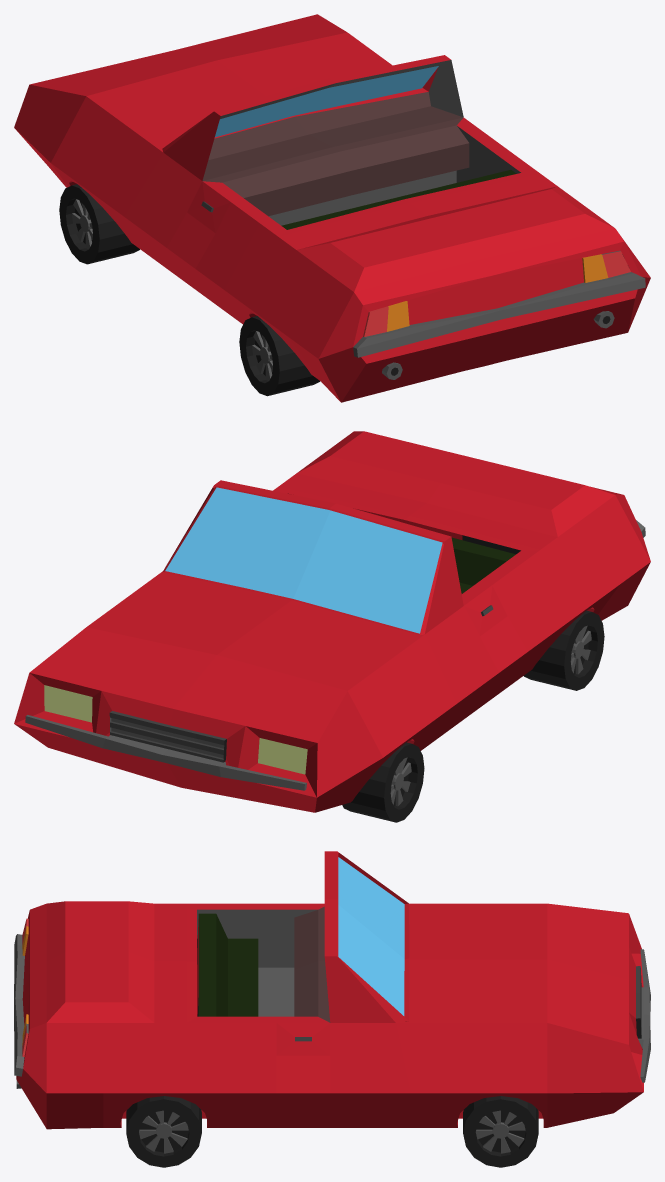
3 renders of one model, top to bottom at view 1: azimuth 30°, elevation 25°; view 2: azimuth 150°, elevation 25°; view 3: azimuth 270°, elevation 25°, orthographic. The views are drawn at different scales.
Visible parts, largest first — view 1: base, WheelTopLeft, WheelBackLeft; view 2: base, WheelTopLeft, WheelBackLeft; view 3: base, WheelTopRight, WheelBackRight.
Boxes of the visible parts, x1,y1,x2,y2 form: base: (14, 14, 650, 402); WheelTopLeft: (59, 184, 139, 264); WheelBackLeft: (239, 316, 320, 396); base: (14, 431, 650, 812); WheelTopLeft: (342, 742, 424, 822); WheelBackLeft: (524, 610, 604, 690); base: (14, 851, 650, 1129); WheelTopRight: (463, 1096, 538, 1167); WheelBackRight: (126, 1096, 201, 1167).
Size of the model in its own units: 1.52 by 0.9099 by 2.7.
1 material, 1 textured.
